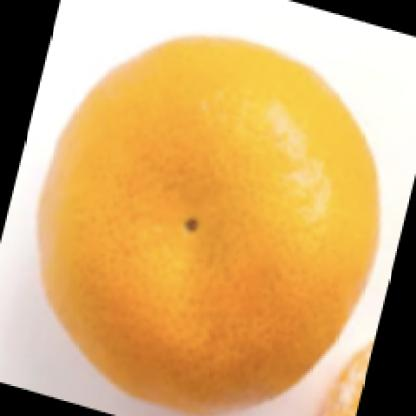orange: (30, 37, 386, 406)
